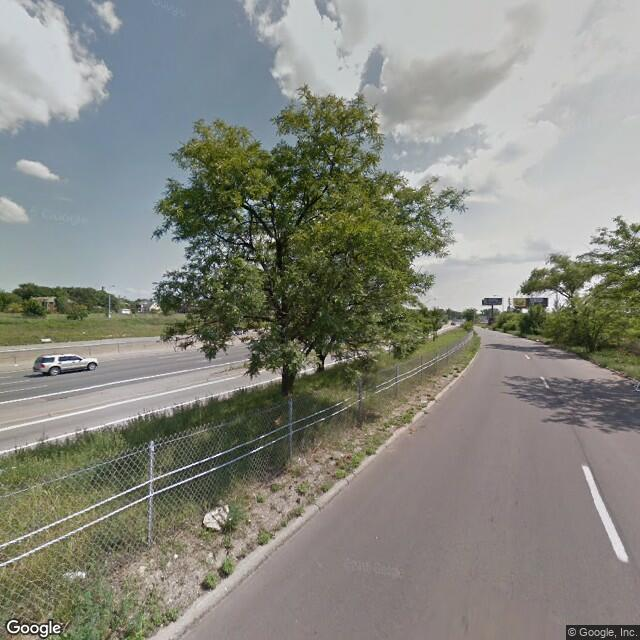litter: (59, 570, 88, 581), (296, 453, 304, 465)
